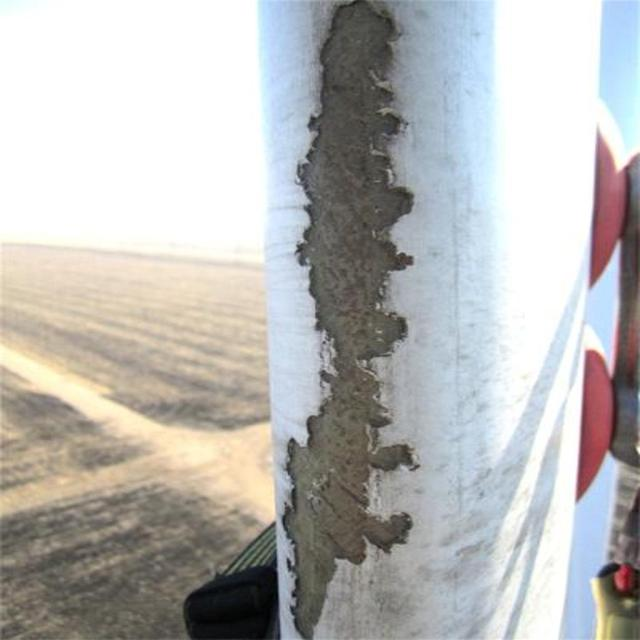corrosion: (300, 8, 412, 325), (288, 333, 403, 636)
